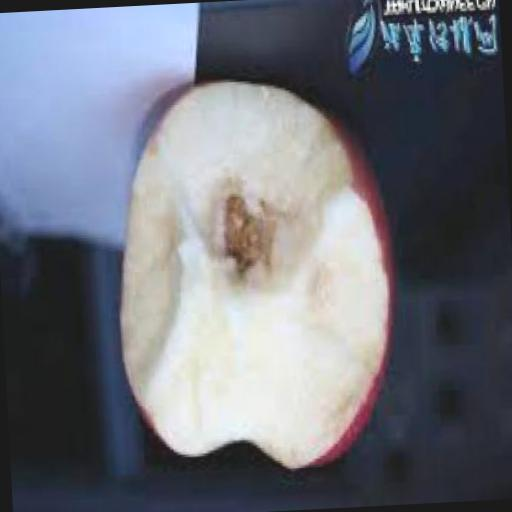biodegradable: (104, 71, 406, 485)
